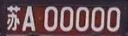A: (22, 6, 35, 31)
